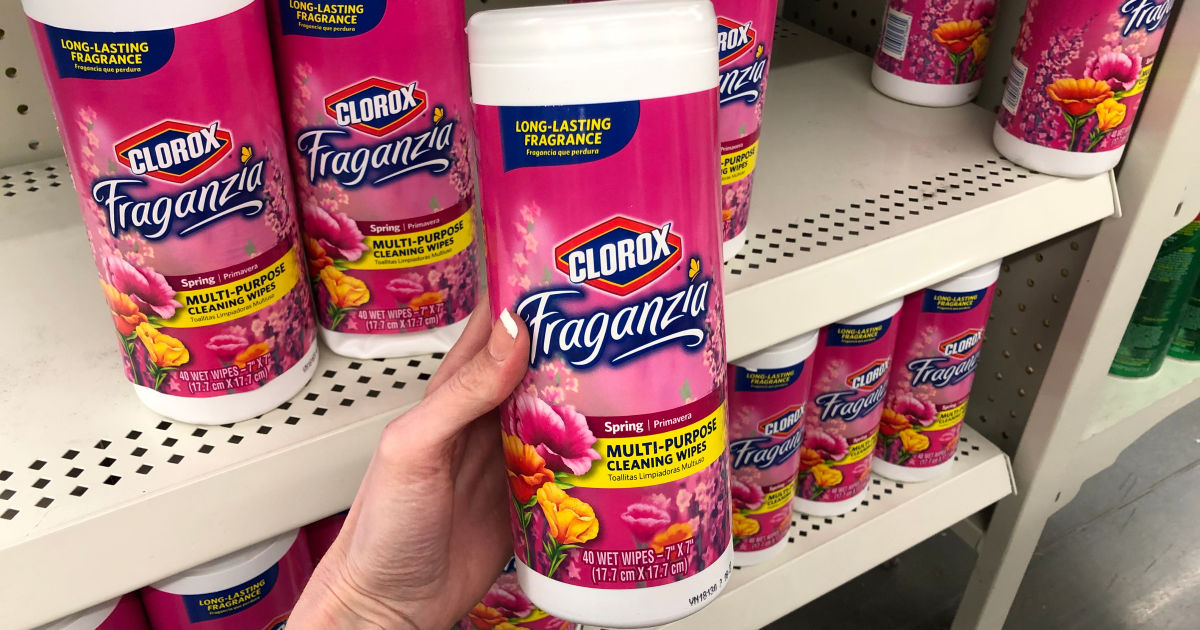Wipes: (454, 2, 740, 629), (12, 1, 325, 432), (252, 2, 493, 367), (984, 2, 1186, 186), (870, 253, 1010, 488), (790, 278, 905, 526), (722, 326, 820, 567), (701, 1, 784, 270), (139, 518, 327, 630), (857, 2, 1001, 114), (22, 589, 148, 630)
